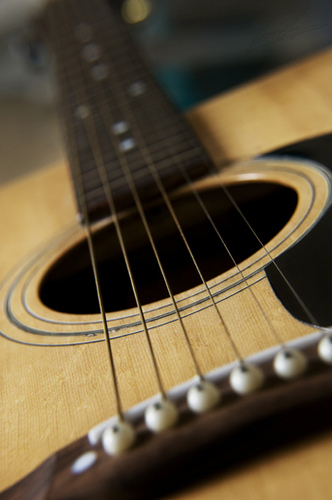guitar: (1, 1, 332, 500)
